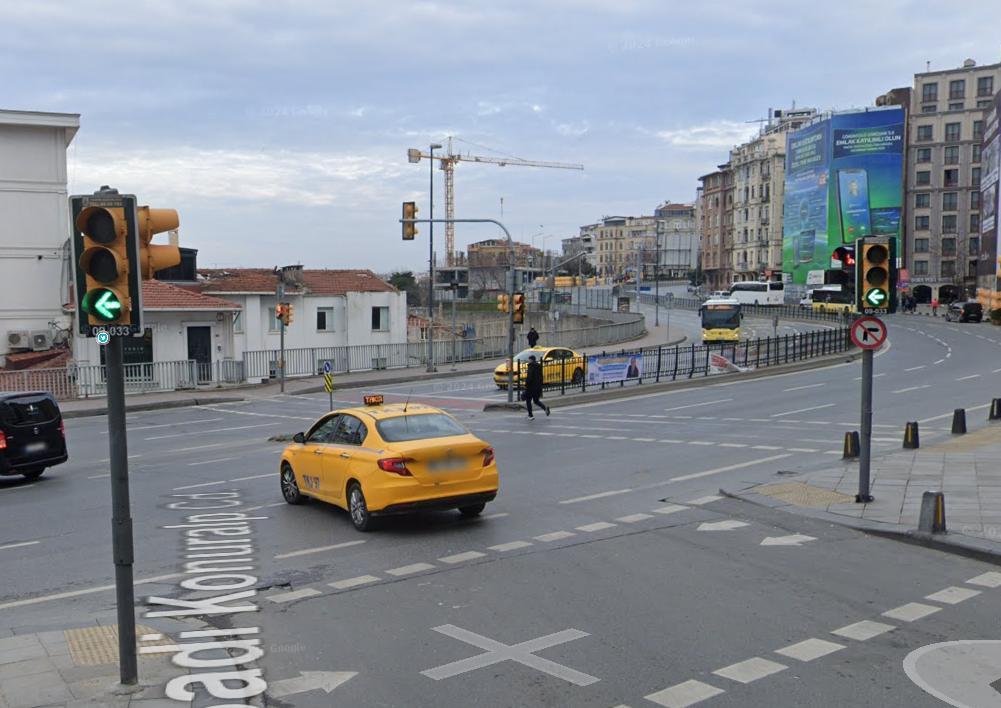greenlight: (78, 199, 134, 336), (856, 237, 892, 309)
rightturnsareforbidden: (850, 316, 888, 351)
